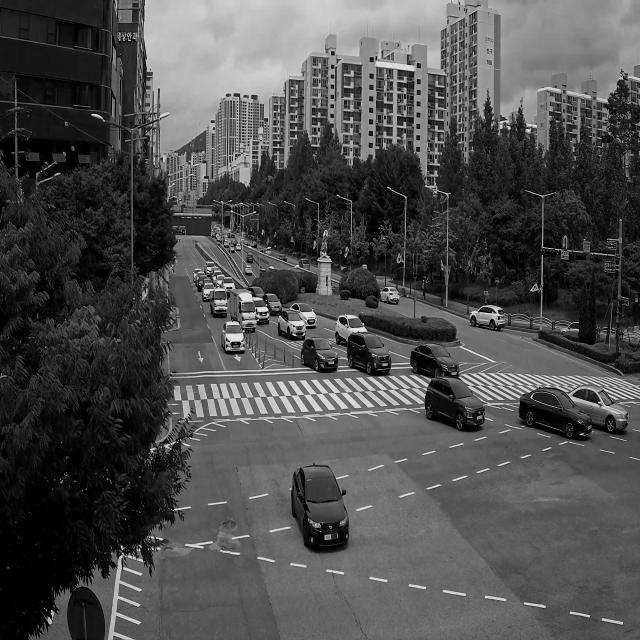Car: (273, 451, 358, 576), (518, 378, 601, 449), (415, 376, 487, 444), (408, 338, 470, 384), (343, 328, 397, 377), (298, 336, 346, 375), (467, 301, 510, 341), (332, 309, 368, 345), (218, 318, 246, 360), (276, 311, 308, 343), (286, 296, 320, 326), (372, 282, 403, 308), (250, 294, 270, 328), (263, 287, 285, 316), (248, 284, 266, 302), (203, 281, 215, 302), (298, 255, 311, 274), (223, 274, 235, 294), (191, 264, 203, 282), (198, 272, 208, 292), (278, 251, 290, 265), (196, 271, 205, 288), (212, 269, 222, 284), (245, 251, 255, 266), (205, 259, 213, 276), (244, 262, 252, 278), (216, 273, 224, 287), (258, 265, 267, 277), (204, 278, 212, 288), (211, 266, 218, 276), (266, 247, 272, 258), (229, 243, 235, 254), (252, 239, 258, 249), (236, 244, 241, 251)
Truck: (225, 282, 258, 334), (204, 283, 229, 317)
